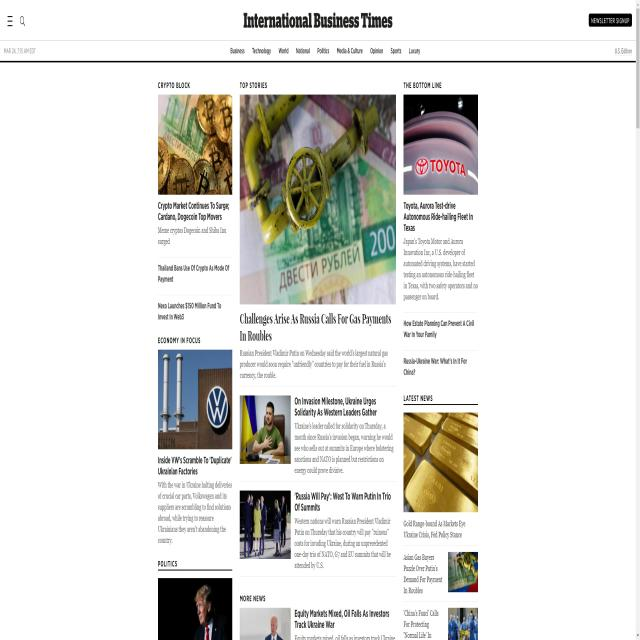side-panel: (402, 90, 482, 640), (157, 76, 235, 640)
tab-bar: (225, 42, 421, 58)
